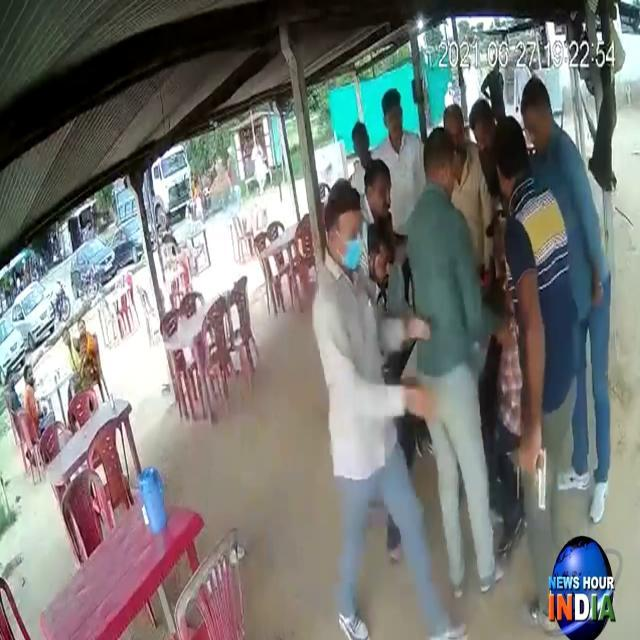weapon: (512, 439, 554, 516)
